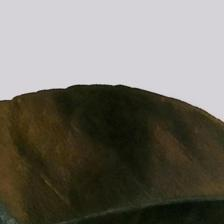healthy: (0, 86, 224, 222)
